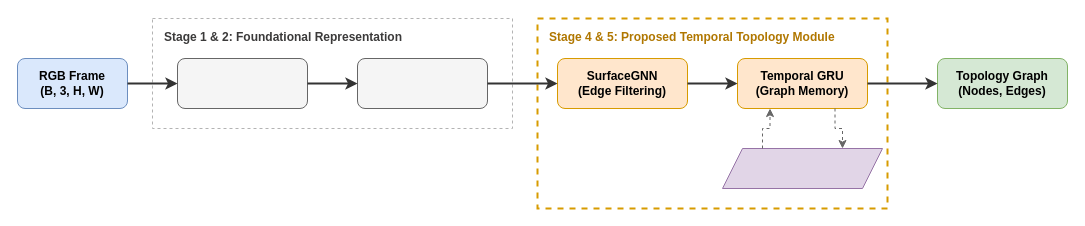
Image size: 1085x226. Some labels were removed from this diagram. Here are the shapes that lost their labels. From the top down, the centre of each, then its label:
At pixel 242 83: "Vision Backbone (SegFormer)".
At pixel 422 83: "IPM Projection & Skeletonizer".
At pixel 802 168: "Ego-Motion Alignment".
